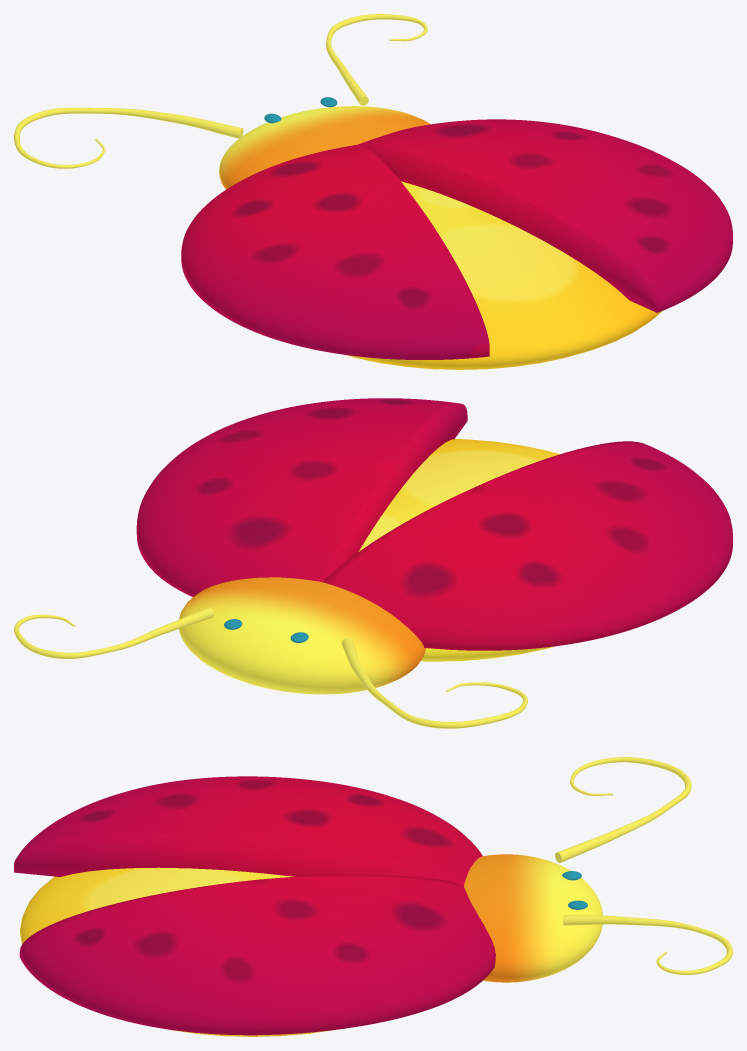
The model's file is reference_ladybug.glb.
3 renders of one model, top to bottom at view 1: azimuth 30°, elevation 25°; view 2: azimuth 150°, elevation 25°; view 3: azimuth 270°, elevation 25°, orthographic. The views are drawn at different scales.
Visible parts, largest first — view 1: shell_left, shell_right, abdomen, head, antenna_left_mid; view 2: shell_left, shell_right, head, abdomen, antenna_left_mid, antenna_right_mid, antenna_left_tip; view 3: shell_right, shell_left, head, abdomen, antenna_left_tip, antenna_left_mid.
Part boxes in pixels (x1,y1,x2,y2): shell_left: (181, 144, 489, 359); shell_right: (358, 119, 732, 312); abdomen: (346, 181, 662, 369); head: (219, 106, 430, 189); antenna_left_mid: (14, 107, 99, 137); shell_left: (323, 441, 732, 650); shell_right: (136, 398, 467, 596); head: (179, 577, 425, 694); abdomen: (358, 439, 559, 661); antenna_left_mid: (383, 699, 490, 728); antenna_right_mid: (18, 636, 108, 658); antenna_left_tip: (446, 682, 527, 723); shell_right: (19, 875, 495, 1035); shell_left: (14, 776, 482, 885); head: (464, 854, 602, 982); abdomen: (20, 867, 334, 1036); antenna_left_tip: (570, 757, 652, 795); antenna_left_mid: (651, 760, 691, 808).
Size of the model in its own units: 1.18 by 0.247 by 1.45.
Materials: 5 (3 with a texture image).
